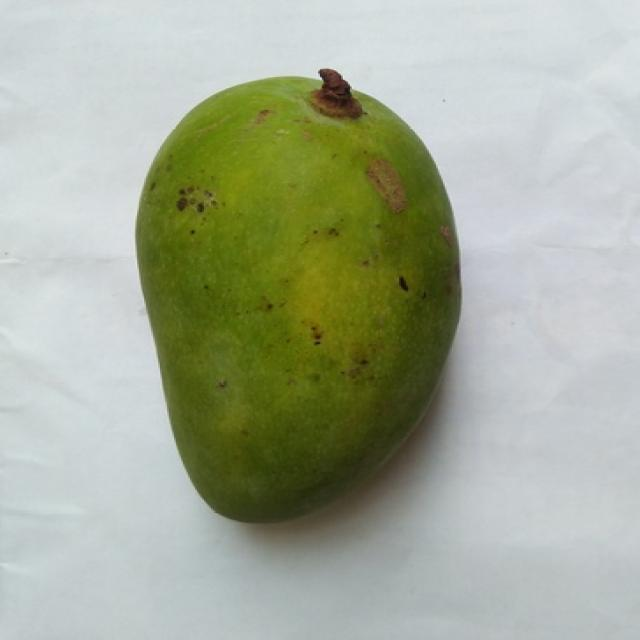Mango: (137, 78, 459, 522)
